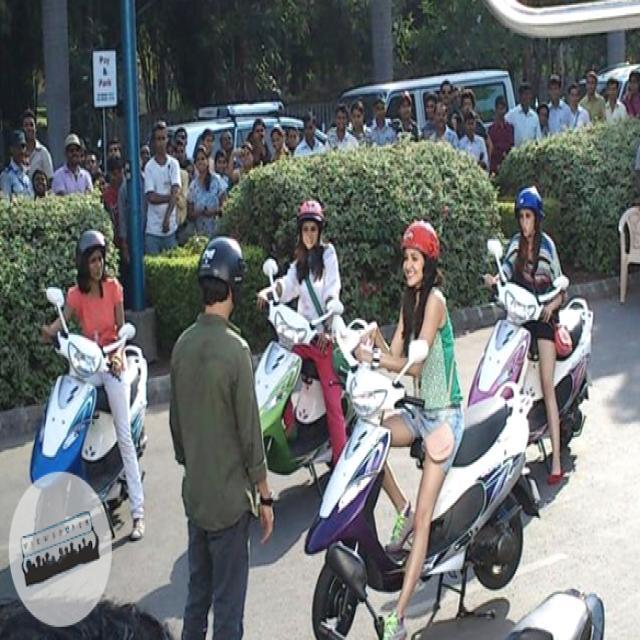Helmet: (191, 220, 252, 318), (393, 211, 443, 297), (69, 216, 114, 295), (508, 175, 548, 246), (292, 192, 332, 258)
